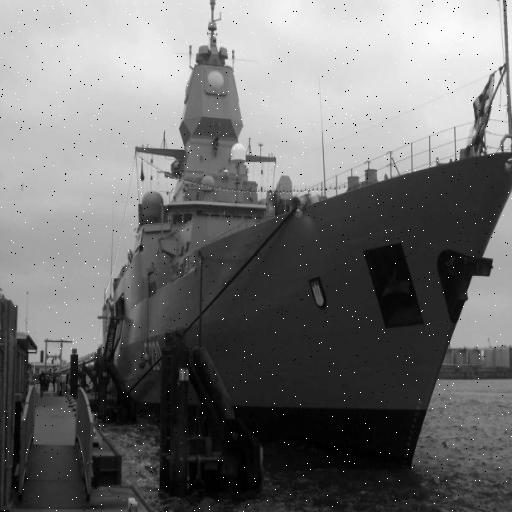Fragata: (98, 1, 512, 499)
